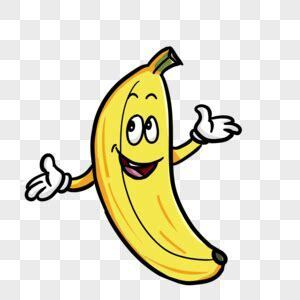banana: (93, 47, 226, 284)
